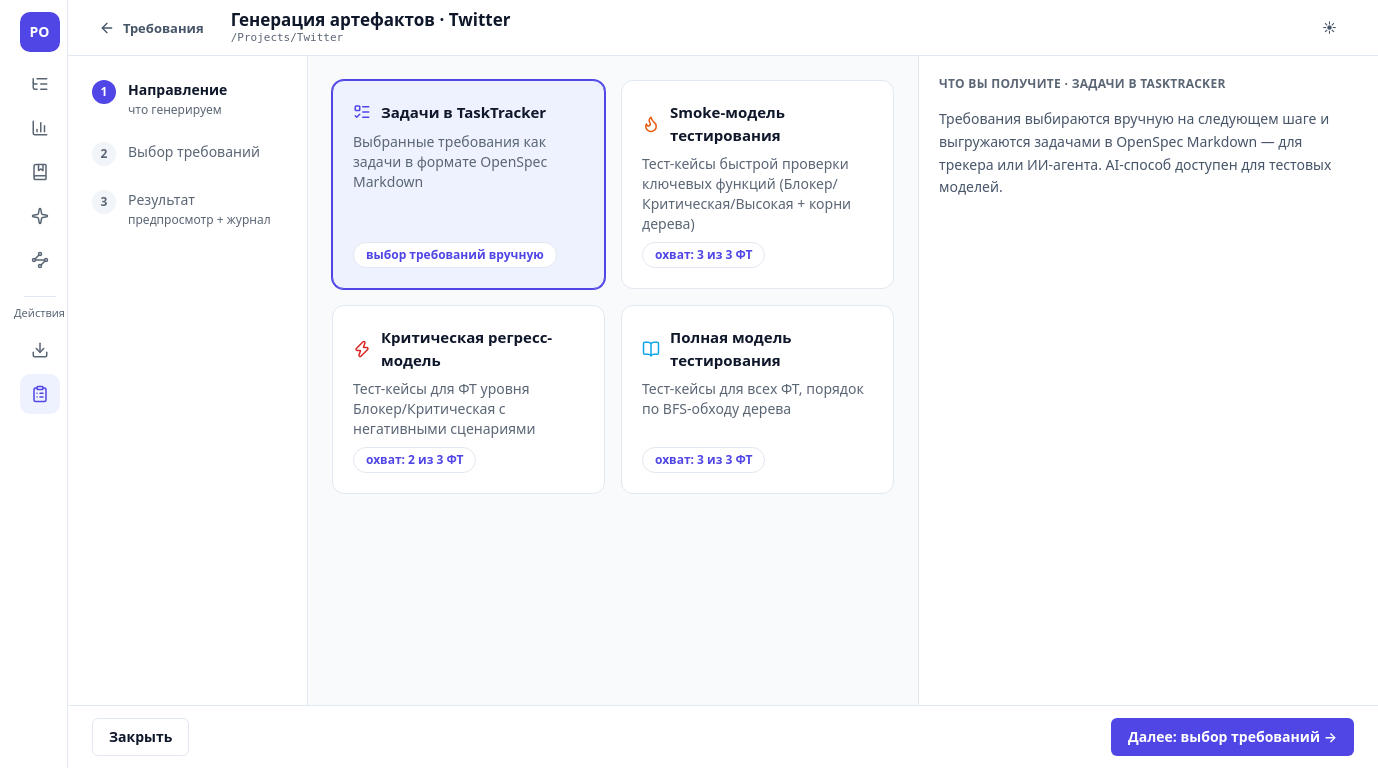
it: Г1 — направление › степпер отмечает пройденные шаги и подсвечивает активный
Click the button with test id "export-tasks-dir-smoke": (758, 184) [621,80,894,289]
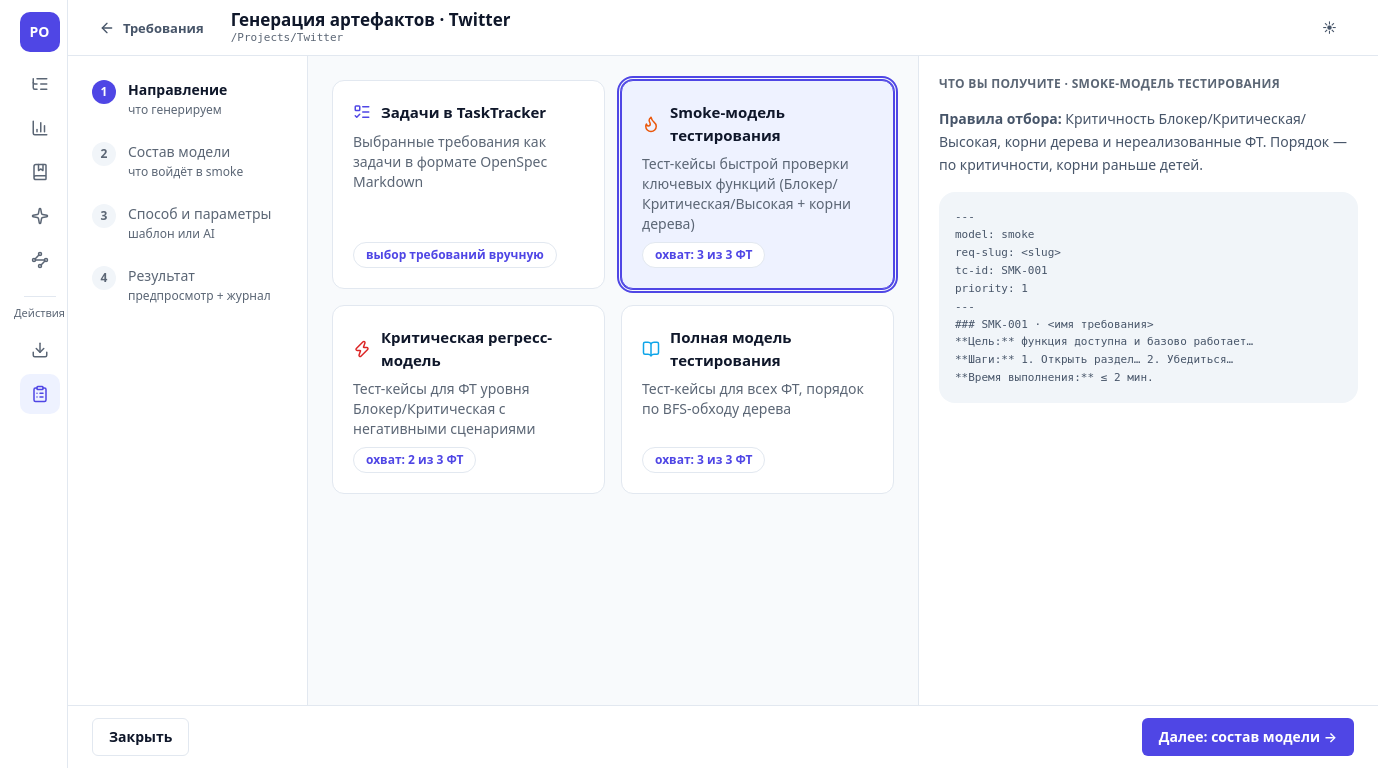
Click the button with test id "gen-direction-next": (1248, 737) [1142,718,1354,756]
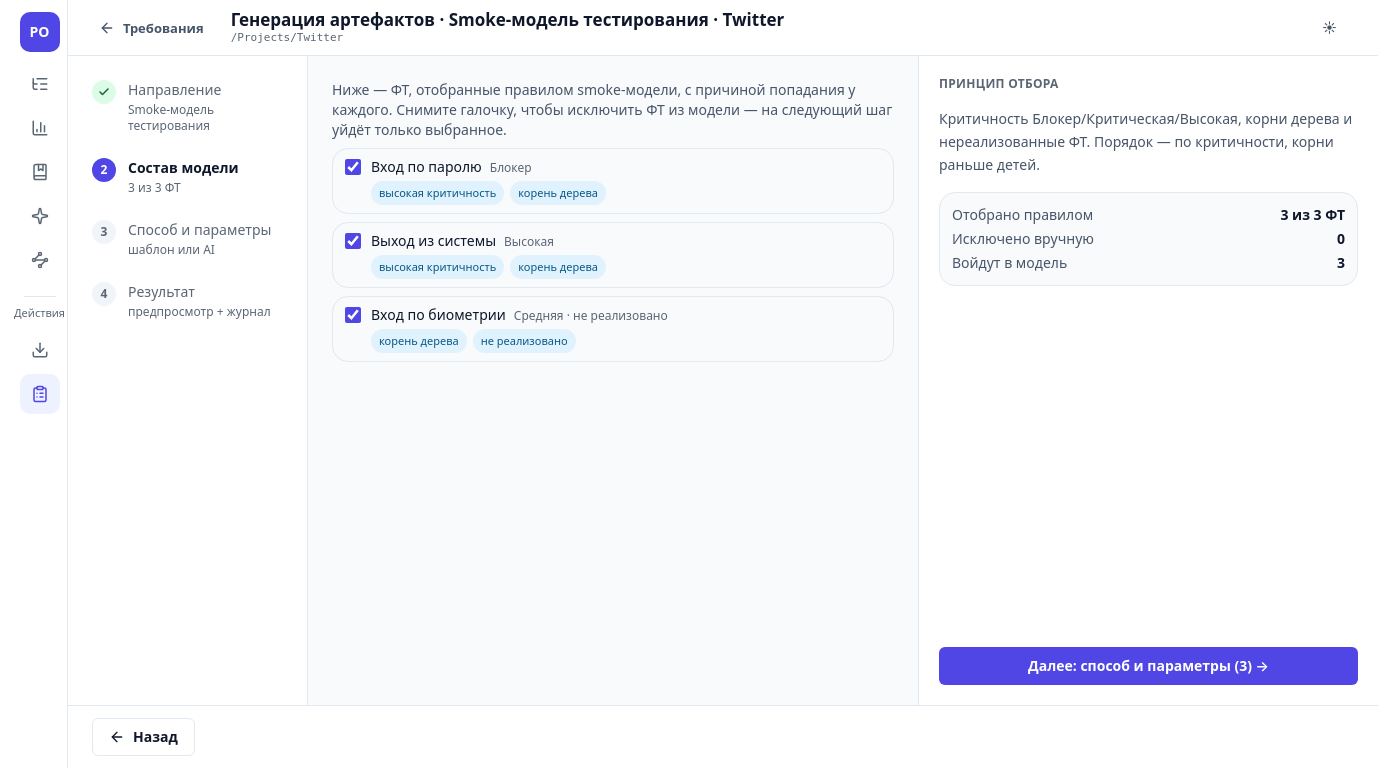
Expected: the element with test id "gen-compose" is shown, [332,80,894,362]
Click the button with test id "gen-compose-next": (1148, 666) [939,647,1358,685]
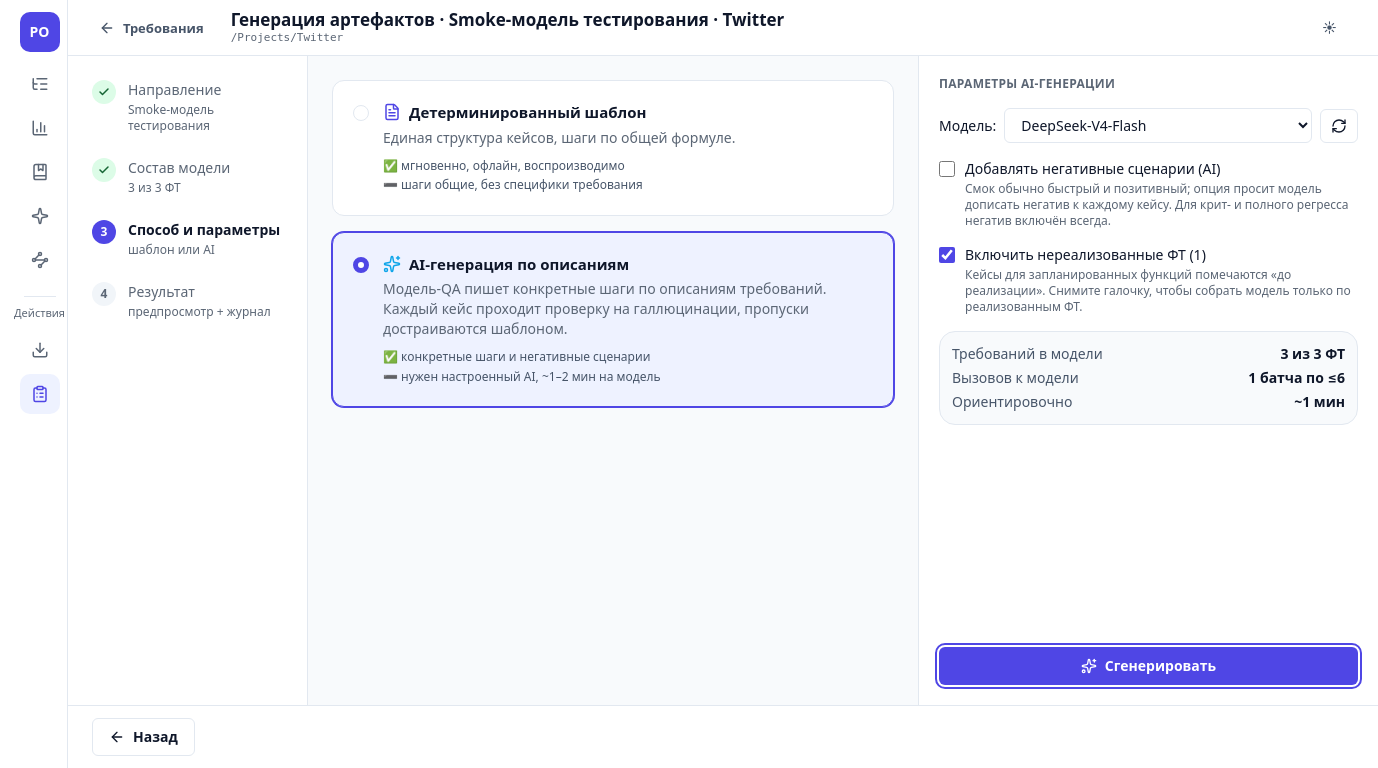
Expected: the list item with test id "gen-step-2" shows "Состав модели", [128,158,230,177]
Expected: the element with test id "gen-mode" is shown, [332,80,894,407]
